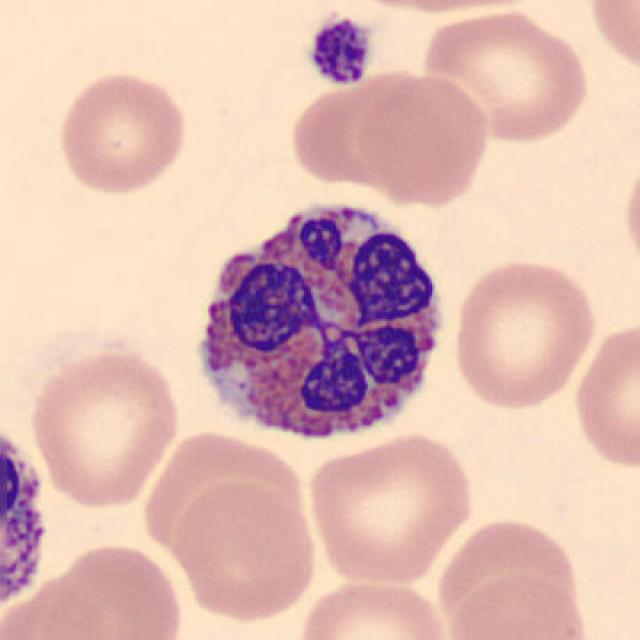Basophil: (0, 395, 57, 638)
Eosinophil: (182, 183, 462, 462)
Platelets: (304, 14, 375, 90)
RBC: (304, 429, 478, 587), (25, 342, 183, 511), (418, 5, 596, 146), (448, 255, 601, 412), (146, 434, 308, 576), (167, 478, 322, 624), (284, 67, 442, 197), (352, 69, 492, 208), (10, 539, 188, 640), (54, 67, 190, 197), (438, 513, 579, 631), (569, 316, 638, 474), (439, 568, 594, 638), (294, 575, 452, 640), (583, 0, 638, 81), (340, 0, 551, 16), (618, 144, 640, 280)
